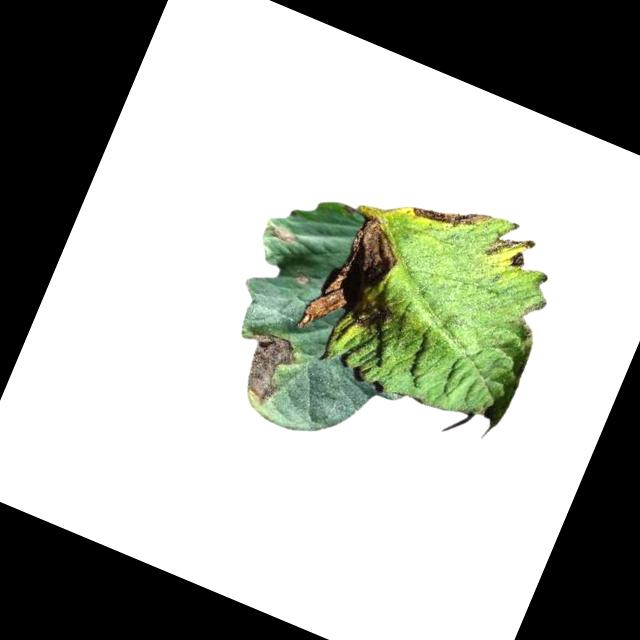Early_blight: (295, 206, 426, 357), (227, 322, 302, 409), (410, 183, 495, 245), (506, 247, 530, 274)
